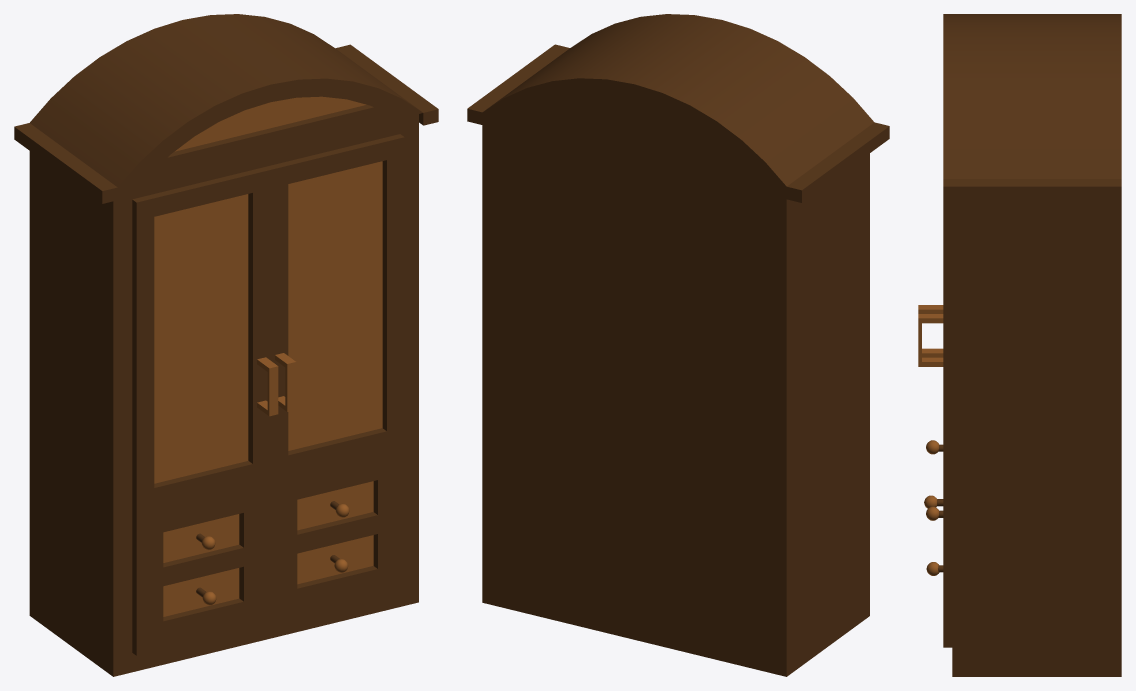
The model's file is Armario2.fbx.
3 views of the same model, side by side, from view 1: azimuth 30°, elevation 25°; view 2: azimuth 150°, elevation 25°; view 3: azimuth 270°, elevation 25° (orthographic).
Visible parts, largest first — view 1: Model; view 2: Model; view 3: Model.
Boxes of the visible parts, x1,y1,x2,y2 form: Model: [14, 14, 438, 676]; Model: [467, 14, 889, 676]; Model: [918, 14, 1121, 676].
Size of the model in its own units: 2.2 by 3.49 by 1.14.
